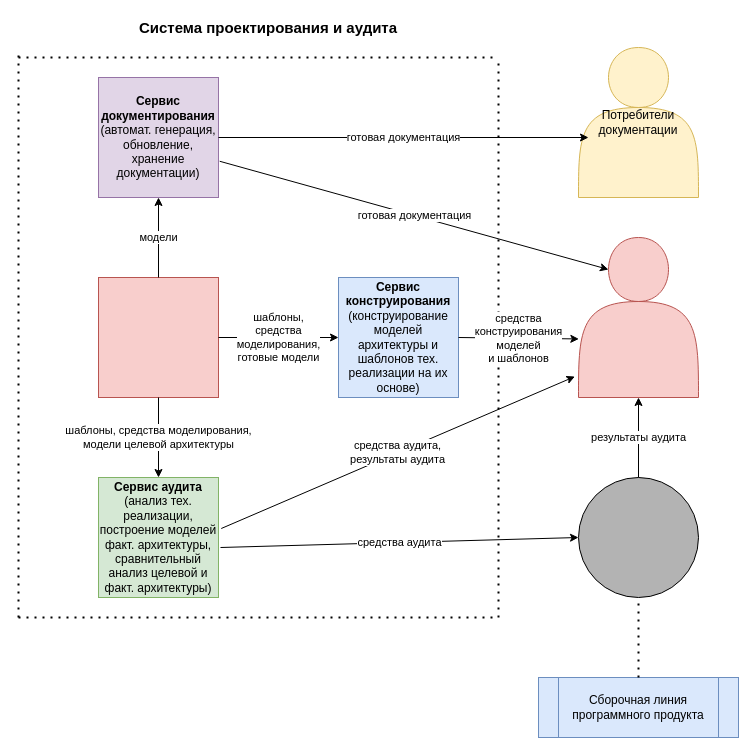
The diagram is 756 pixels wide and 755 high, and some of its shapes have lost their labels. The shapes that lost their labels are listed below. From the top down, each one's centre as x and y in pixels, then its label:
point (158, 337): Сервис моделирования (сборка и хранение целевых и факт. моделей и их описаний)
point (638, 317): Архитекторы
point (638, 537): Механизм автоматического аудита
